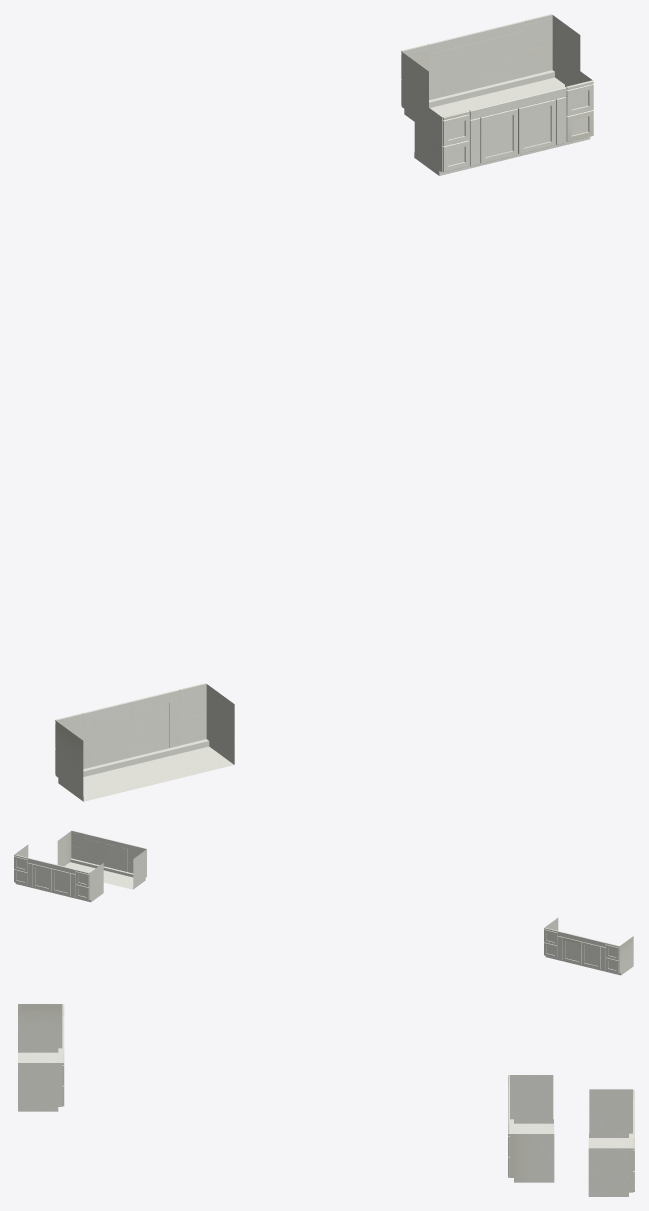
File: 2345_bathroom_Cabinets_Linen_.gltf
3 views of the same model, one above another, from view 1: azimuth 30°, elevation 25°; view 2: azimuth 150°, elevation 25°; view 3: azimuth 270°, elevation 25° (orthographic). The views are drawn at different scales.
Visible parts, largest first — view 1: Bathroom_Cabinet_Linen_2345; view 2: Bathroom_Cabinet_Linen_2345; view 3: Bathroom_Cabinet_Linen_2345.
Part boxes in pixels (box(x1,y1,x2,y2)): Bathroom_Cabinet_Linen_2345: box(55, 14, 593, 801); Bathroom_Cabinet_Linen_2345: box(14, 830, 633, 975); Bathroom_Cabinet_Linen_2345: box(18, 1004, 634, 1196).
Bounding box in the file's own units: 16.16 × 5.37 × 12.73.
Materials: 1 (1 with a texture image).
